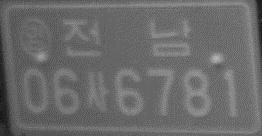0: (21, 67, 50, 114)
1: (216, 68, 244, 119)
6: (51, 67, 82, 117), (114, 68, 145, 117)
7: (146, 68, 176, 117)
8: (182, 68, 212, 118)
사: (84, 70, 111, 114)
영: (18, 17, 52, 59)
전남_D: (62, 17, 192, 57)
